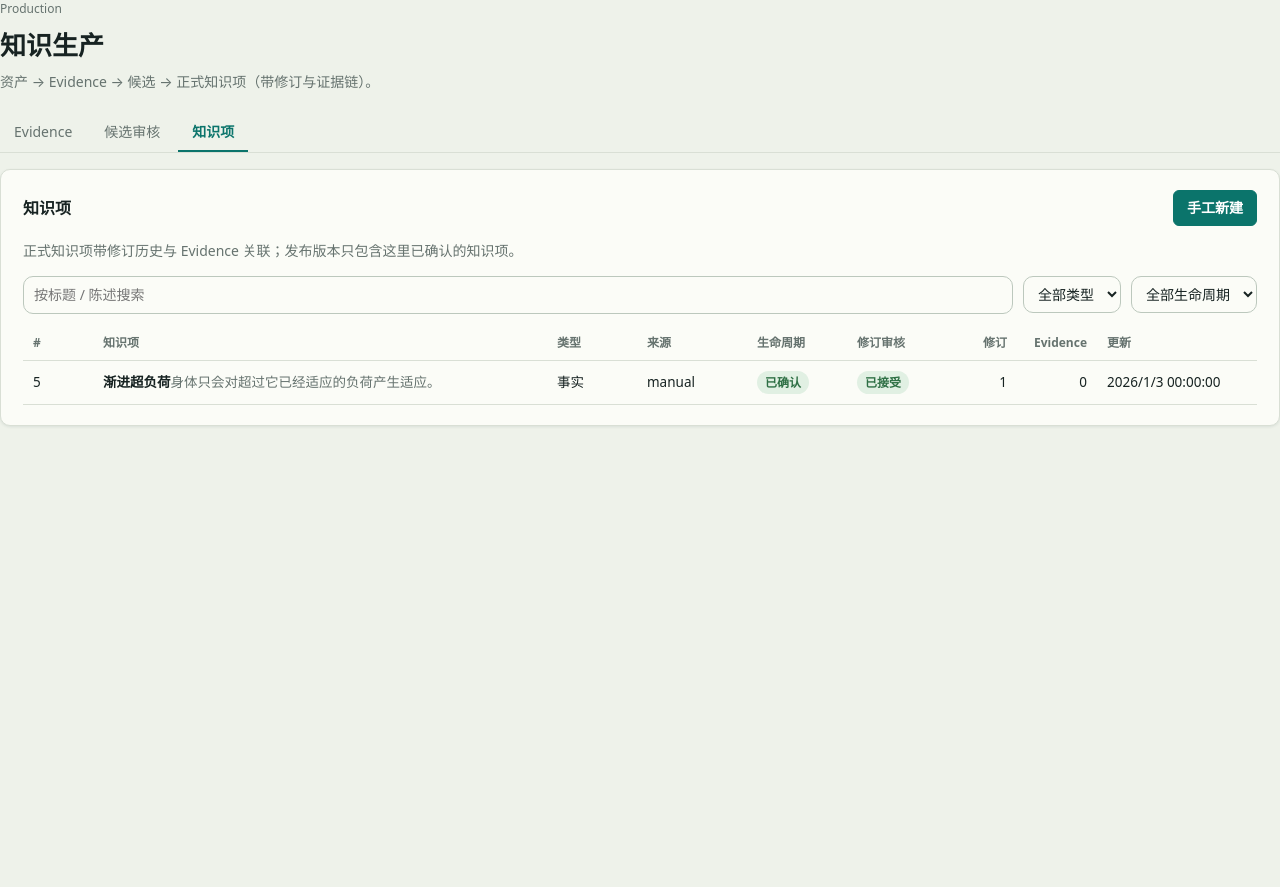
上链到知行图 › 钱包确认连接与签名后提交,并显示链上单元
This screenshot has width=1280, height=887.
Click the text "渐进超负荷". click: x=137, y=382
box: [103, 373, 170, 391]
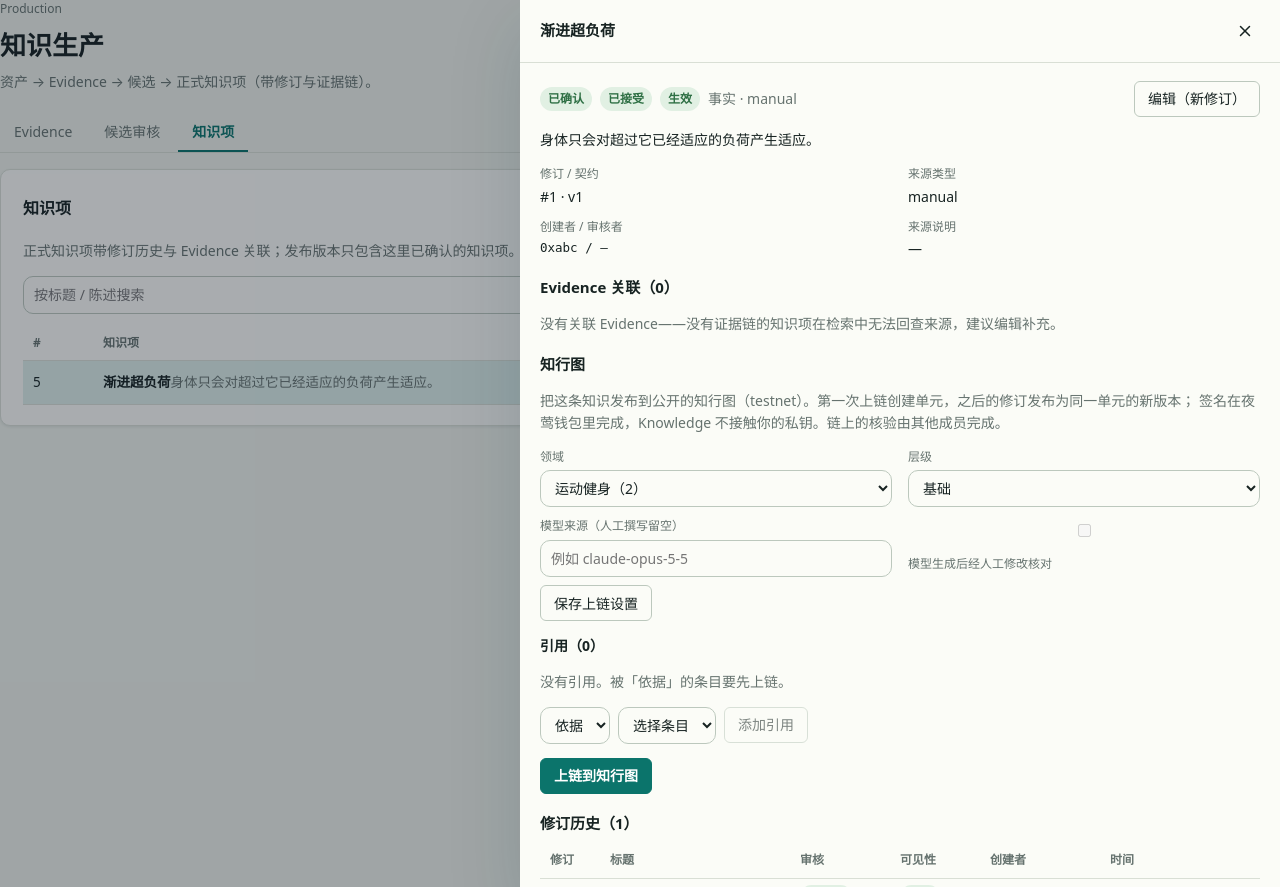
Expected: the element "知行图" is shown, [540, 353, 1260, 794]
Click the button "上链到知行图". click: x=596, y=776
box: [540, 758, 652, 794]
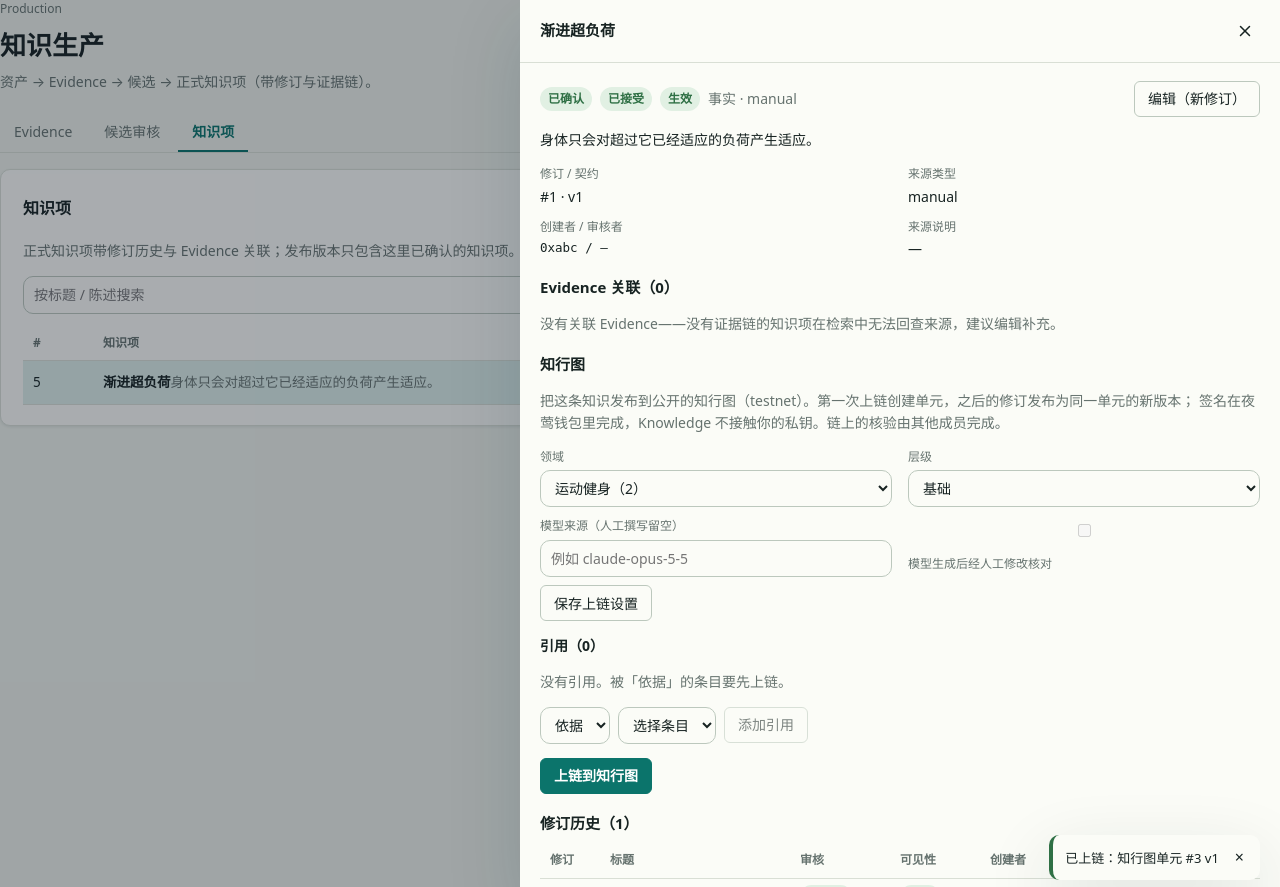
Expected: the text "已上链：知行图单元 #3 v1" is shown, [1065, 848, 1219, 868]
